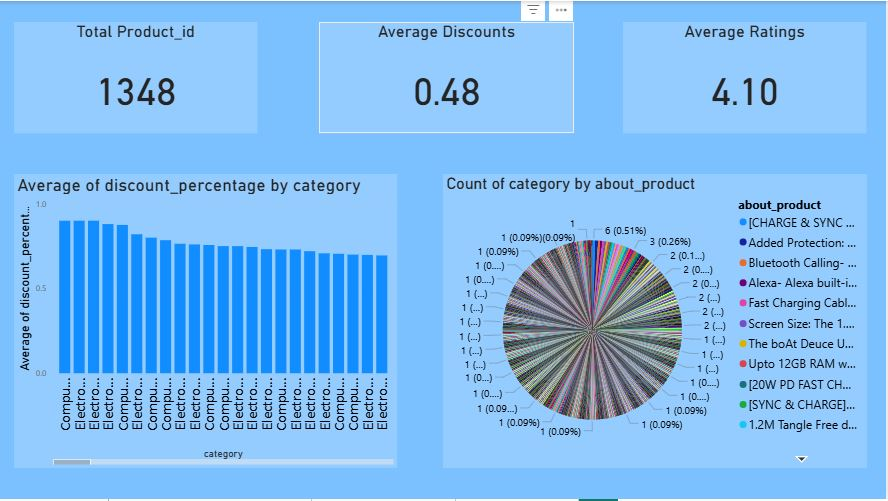

This screenshot's page, from the dashboard's own definition file:
{"tool":"powerbi","page":{"name":"Sales and Discounts Overview","canvas":[1280,720],"ordinal":0},"visuals":[{"type":"card","title":"Total Product_id","fields":{"Values":["Count(amazon.product_id)"]},"box":[20.3,30.5,352.2,160.8],"z":0},{"type":"card","title":"Average Discounts","fields":{"Values":["Avg(amazon.discount_percentage)"]},"box":[460.5,30.5,369.1,160.8],"z":1000},{"type":"card","title":"Average Ratings","fields":{"Values":["Avg(amazon.rating)"]},"box":[900.7,30.5,352.2,160.8],"z":2000},{"type":"lineClusteredColumnComboChart","fields":{"Category":["amazon.category"],"Y":["Avg(amazon.discount_percentage)"]},"box":[20.2,250.1,553.7,425.1],"z":3000},{"type":"pieChart","fields":{"Category":["amazon.about_product"],"Y":["CountNonNull(amazon.category)"]},"box":[640,250.6,612.9,425],"z":4000}]}

Visuals, with their boxes in screenshot pixels (x1, y1, x2, y2), scaled from the page's 1280x720 canvas onto the 888x501 screenshot:
"Total Product_id" card: BBox(14, 21, 258, 133)
"Average Discounts" card: BBox(319, 21, 576, 133)
"Average Ratings" card: BBox(625, 21, 869, 133)
lineClusteredColumnComboChart - amazon.category x Avg(amazon.discount_percentage): BBox(14, 174, 398, 470)
pieChart - amazon.about_product x CountNonNull(amazon.category): BBox(444, 174, 869, 470)
